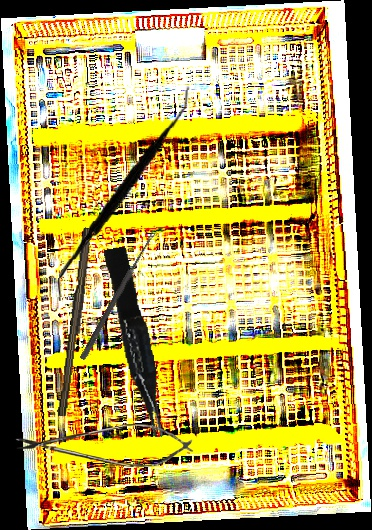Micro Scissor: (14, 424, 196, 467)
Scalpel Handle: (57, 226, 95, 418)
Spatula Surgical: (57, 79, 190, 308)
Surgical Spoon: (79, 229, 157, 362)
Tissue Forceps: (103, 244, 168, 441)
